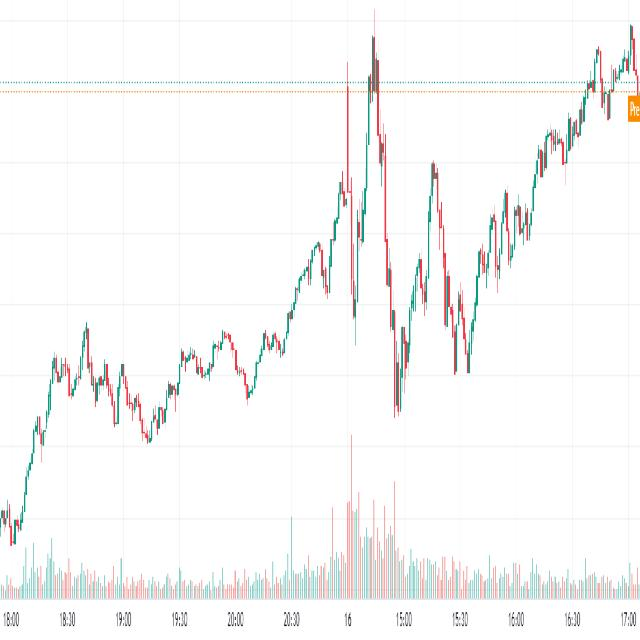Head-Shoulders: (400, 134, 470, 377)
